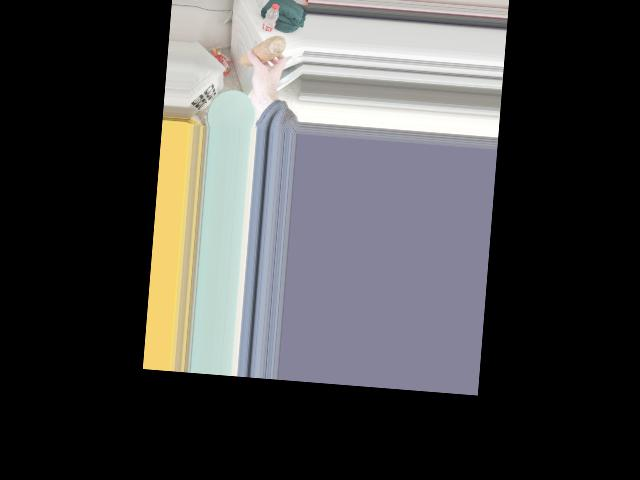sweet_potato: (238, 32, 286, 67)
